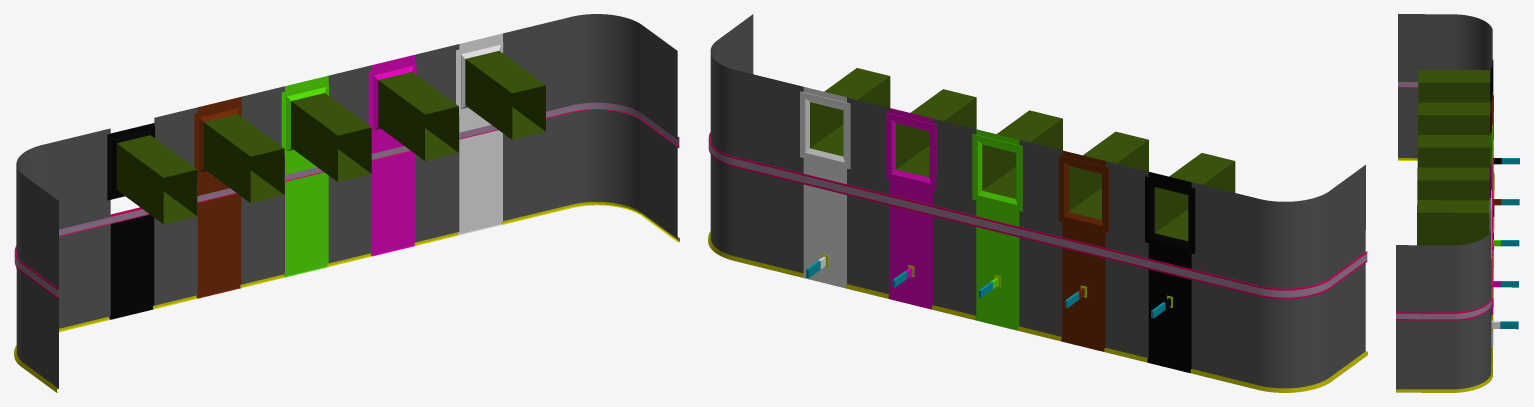
The model's file is Usine_v2.fbx.
3 views of the same model, side by side, from view 1: azimuth 30°, elevation 25°; view 2: azimuth 150°, elevation 25°; view 3: azimuth 270°, elevation 25° (orthographic). The views are drawn at different scales.
Visible parts, largest first — view 1: pPlane19; view 2: pPlane19; view 3: pPlane19.
Part boxes in pixels (<box>): pPlane19: <box>14,14,679,392</box>; pPlane19: <box>708,14,1367,392</box>; pPlane19: <box>1396,14,1519,392</box>.
Bounding box in the file's own units: 9059 × 2669 × 2035.
